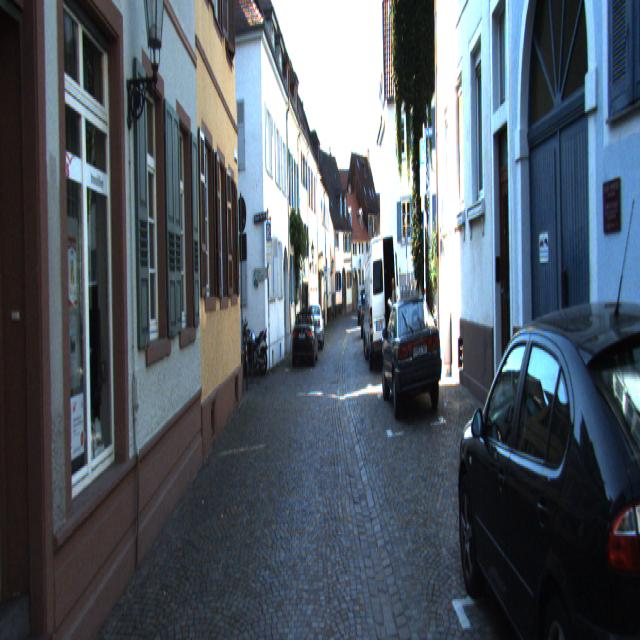Car: (452, 299, 640, 638), (380, 294, 442, 424), (292, 310, 317, 369), (306, 304, 324, 351)
Misc: (238, 314, 269, 377)
Van: (363, 228, 400, 369)
